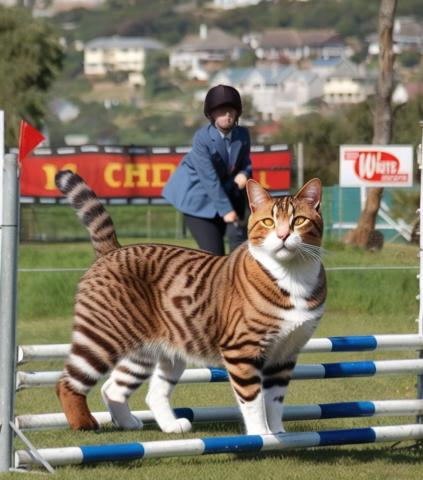cat: (54, 168, 334, 433)
person: (135, 82, 256, 270)
